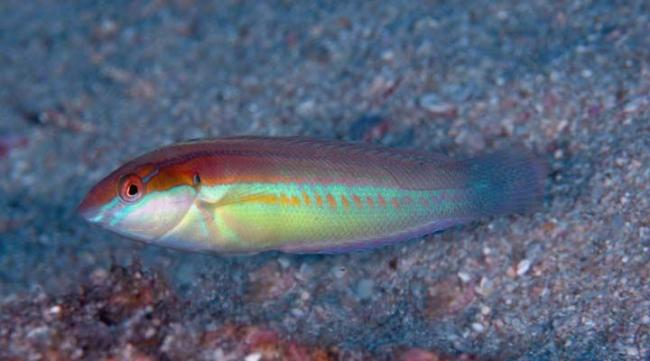fish: (79, 135, 549, 253)
